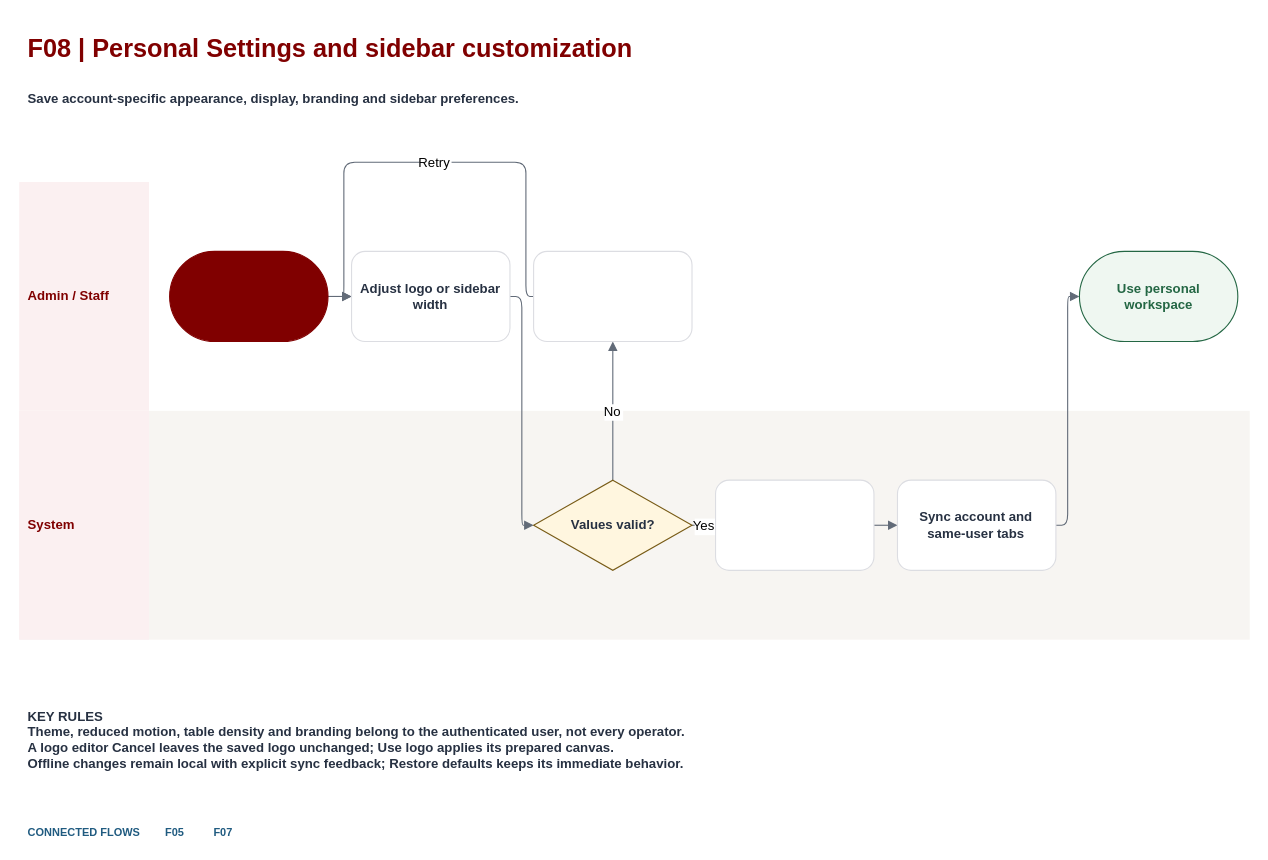
Image size: 1268x860. Some labels were removed from this diagram. The centre of each missing label's shape, as x and y in pixels:
Apply local preview and save: pixel 794 524
Correct values or cancel editor: pixel 612 296
Select personal preferences: pixel 248 296
